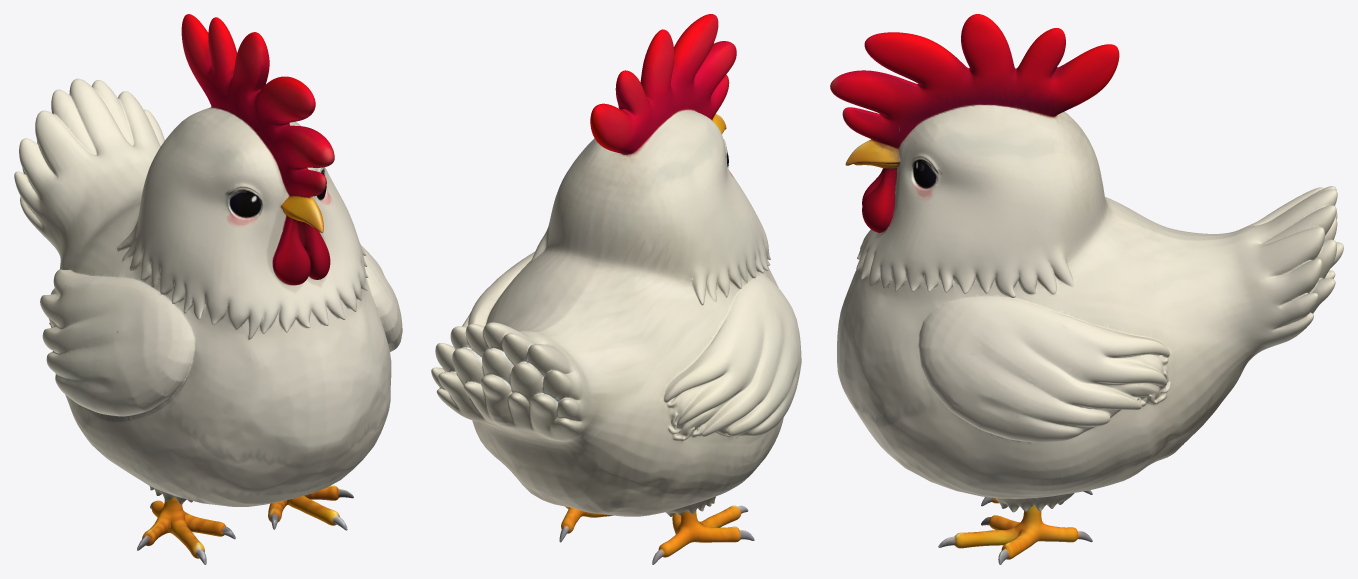
File: Meshy_AI_Fluffy_Chicken_0324192925_texture.fbx
3 views of the same model, side by side, from view 1: azimuth 30°, elevation 25°; view 2: azimuth 150°, elevation 25°; view 3: azimuth 270°, elevation 25° (orthographic). The views are drawn at different scales.
Visible parts, largest first — view 1: Mesh_0; view 2: Mesh_0; view 3: Mesh_0.
Boxes of the visible parts, <box> form: Mesh_0: <box>14,14,402,564</box>; Mesh_0: <box>431,14,801,564</box>; Mesh_0: <box>830,14,1343,564</box>.
Bounding box in the file's own units: 124 × 190 × 175.
Materials: 1 (1 with a texture image).
